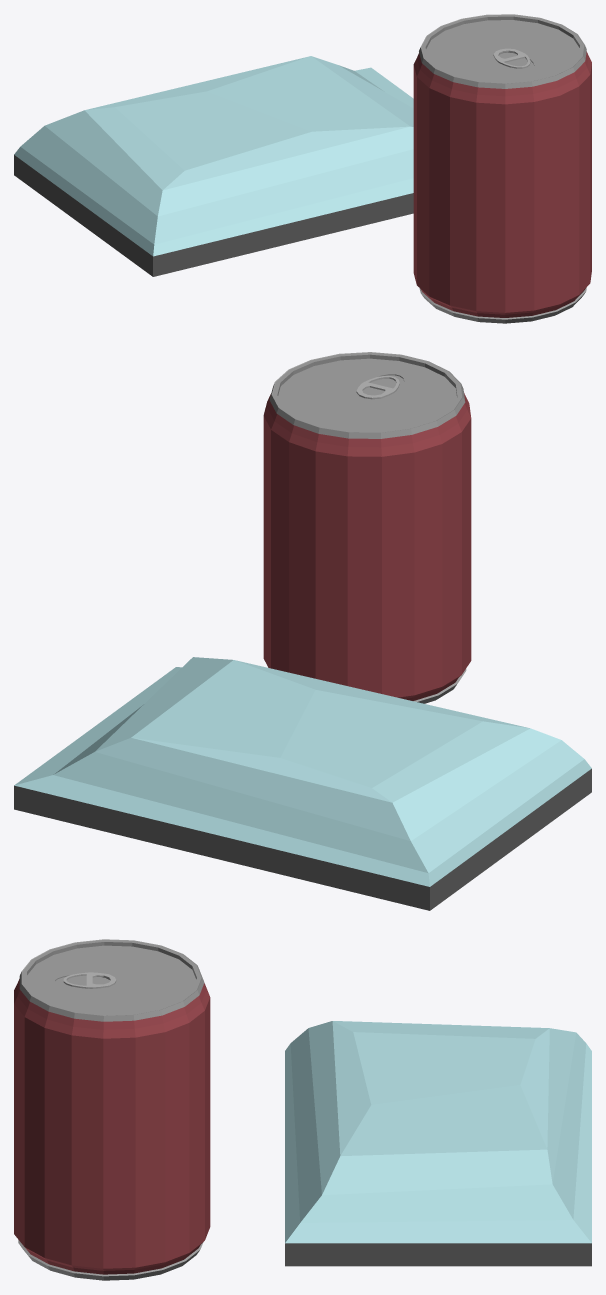
The model's file is Food1.fbx.
3 views of the same model, one above another, from view 1: azimuth 30°, elevation 25°; view 2: azimuth 150°, elevation 25°; view 3: azimuth 270°, elevation 25° (orthographic). The views are drawn at different scales.
Parts seen in each view (by area): view 1: SousagePackage, BeerCan; view 2: SousagePackage, BeerCan; view 3: SousagePackage, BeerCan.
Part boxes in pixels (box(x1,y1,x2,y2)): SousagePackage: box(14, 56, 413, 276); BeerCan: box(413, 14, 591, 323); SousagePackage: box(14, 657, 591, 910); BeerCan: box(263, 352, 471, 703); SousagePackage: box(285, 1021, 591, 1266); BeerCan: box(14, 939, 210, 1280).
Bounding box in the file's own units: 26.84 × 13.59 × 21.13.
